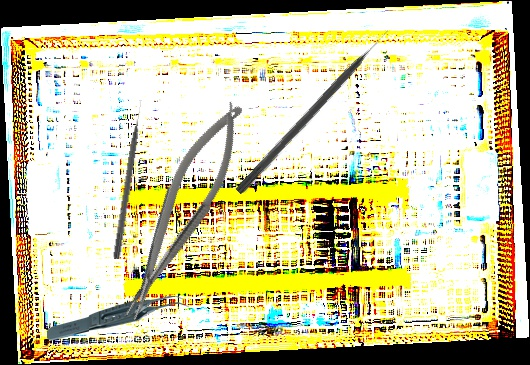Needle Holder: (102, 93, 262, 327)
Pusher: (234, 27, 394, 197), (112, 99, 147, 260)
Tissue Forceps: (46, 295, 190, 342)
